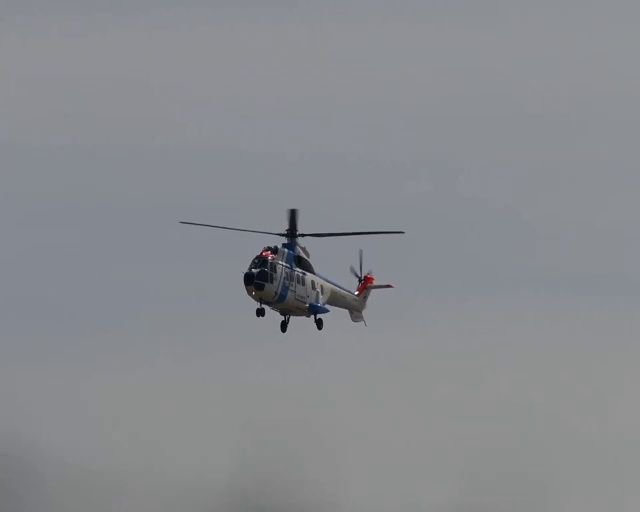HELICOPTER: (178, 207, 406, 334)
